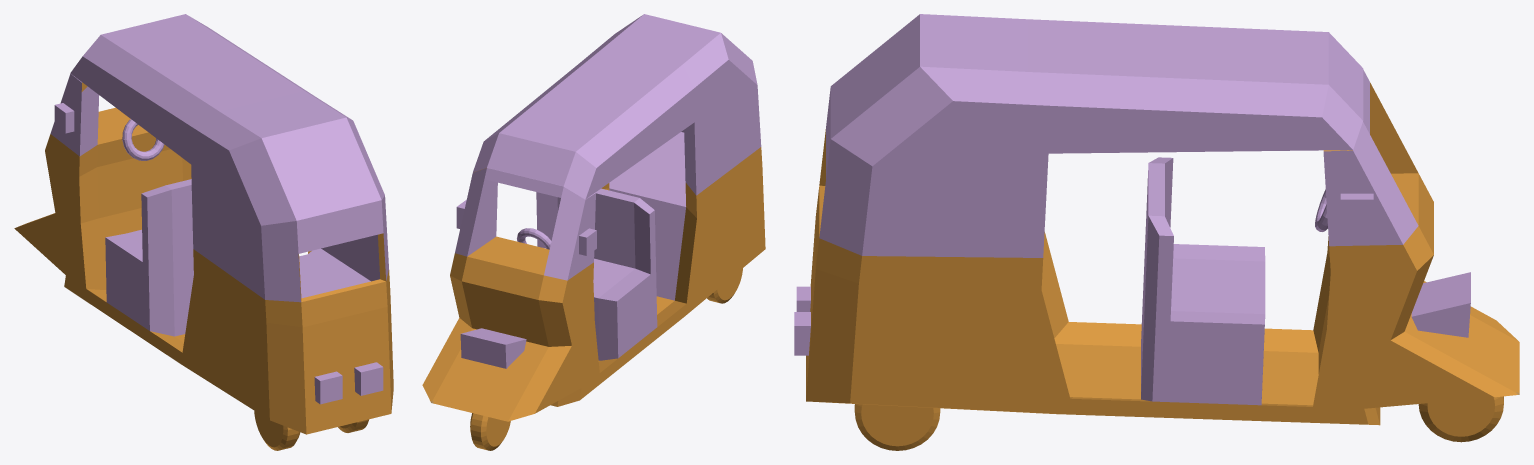
Rendered from tuktuk (2).fbx.
3 views of the same model, side by side, from view 1: azimuth 30°, elevation 25°; view 2: azimuth 150°, elevation 25°; view 3: azimuth 270°, elevation 25° (orthographic). The views are drawn at different scales.
Parts seen in each view (by area): view 1: tuktuk; view 2: tuktuk; view 3: tuktuk.
Part boxes in pixels (x1,y1,x2,y2): tuktuk: (14,14,393,450); tuktuk: (422,14,765,450); tuktuk: (794,14,1519,450).
Size of the model in its own units: 143 by 299 by 493.
Materials: 1 (1 with a texture image).
